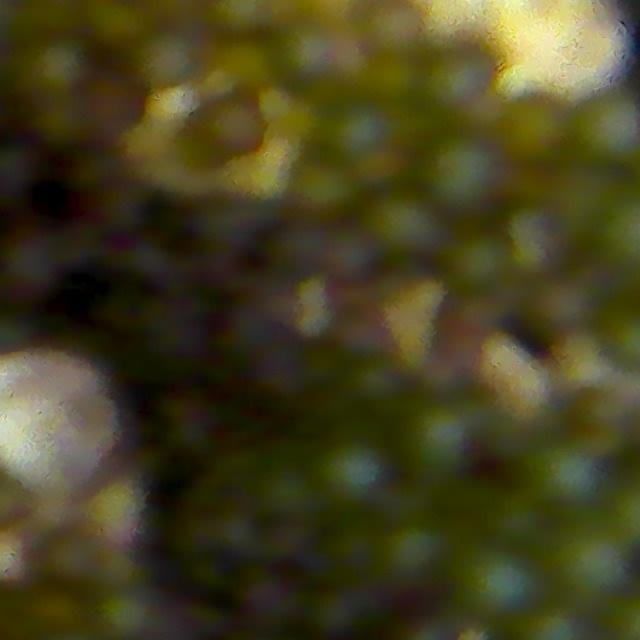SeaGrape: (423, 136, 506, 219), (331, 99, 414, 179), (555, 523, 633, 604), (463, 547, 537, 621), (572, 96, 640, 170), (407, 403, 474, 475), (361, 194, 434, 258), (533, 440, 603, 506), (379, 522, 449, 587), (505, 95, 569, 163), (319, 441, 385, 505), (426, 48, 493, 110), (137, 30, 201, 92), (26, 38, 91, 99), (206, 97, 268, 158), (499, 216, 559, 279), (551, 169, 609, 232), (291, 159, 355, 216), (449, 234, 509, 292), (367, 0, 425, 57), (97, 588, 159, 640), (220, 39, 275, 94), (535, 278, 592, 330), (91, 0, 148, 51), (367, 55, 420, 106), (211, 0, 272, 38)
